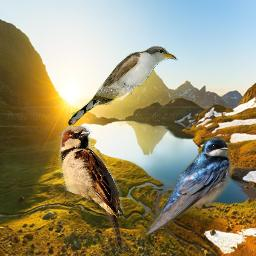Cuckoo: (66, 45, 179, 126)
Swallow: (145, 135, 233, 238), (59, 126, 124, 250)
